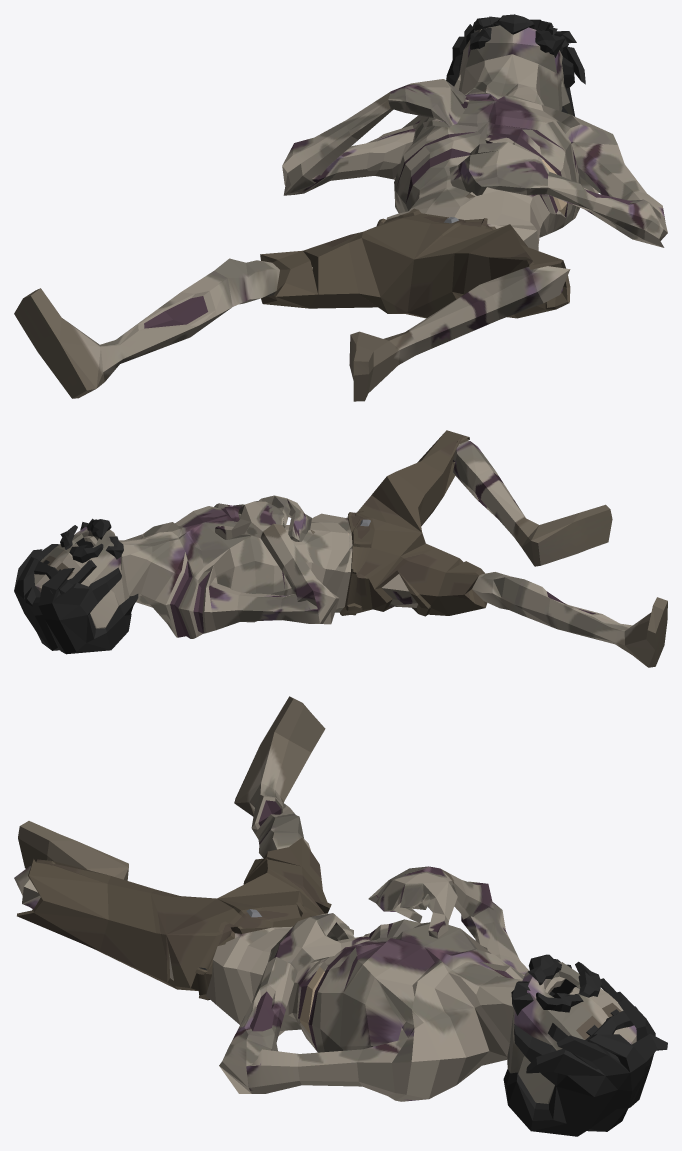
The model's file is apoc_SM_DeadBody_Male_05.gltf.
The picture shows the model from 3 angles, top to bottom: view 1: azimuth 30°, elevation 25°; view 2: azimuth 150°, elevation 25°; view 3: azimuth 270°, elevation 25°; orthographic projection. The views are drawn at different scales.
Visible parts, largest first — view 1: SM_DeadBody_Male_05; view 2: SM_DeadBody_Male_05; view 3: SM_DeadBody_Male_05.
Part boxes in pixels (left/top/right/bottom): SM_DeadBody_Male_05: left=14, top=14, right=667, bottom=401; SM_DeadBody_Male_05: left=14, top=430, right=667, bottom=667; SM_DeadBody_Male_05: left=14, top=696, right=667, bottom=1136.
Bounding box in the file's own units: 1.61 × 0.3739 × 1.27.
1 material, 1 textured.
